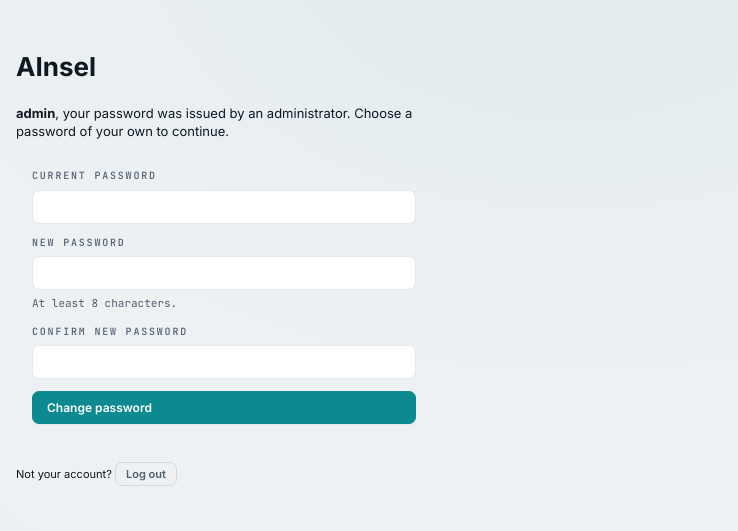
Test: ForcedPasswordChange › keeps the user on the screen when the current password is wrong
This screenshot has width=738, height=531.
Type "wrong" into the password field labelled "Current password".
click(224, 207); type("wrong")  # box [32,190,416,224]
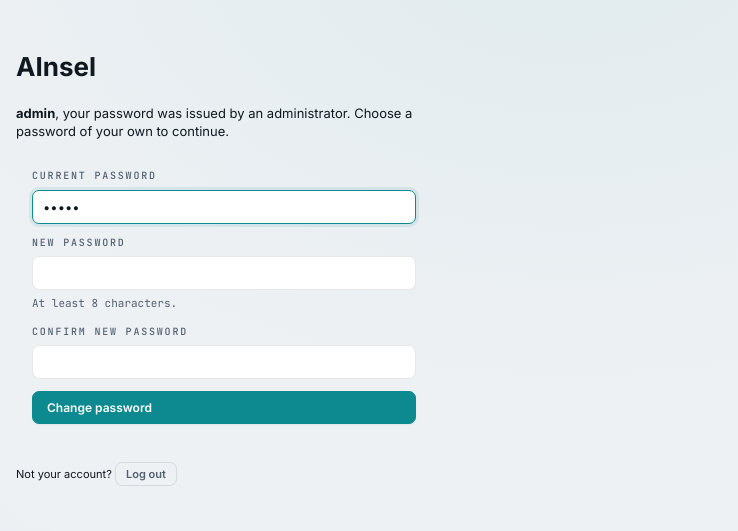
Type "self-chosen-pass" into the password field labelled "New password".
click(224, 273); type("self-chosen-pass")  # box [32,256,416,290]
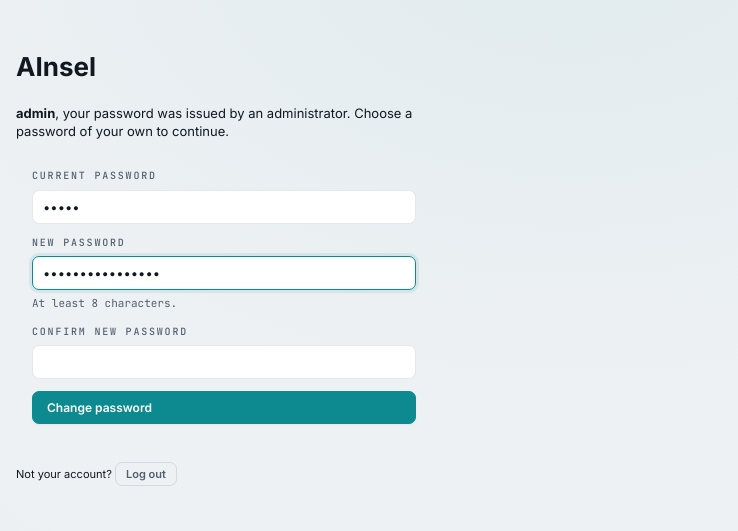
Type "self-chosen-pass" into the password field labelled "Confirm new password".
click(224, 362); type("self-chosen-pass")  # box [32,345,416,379]
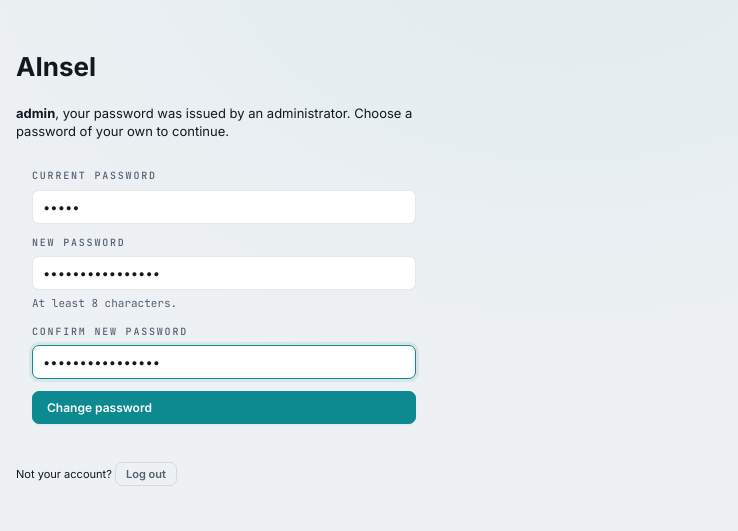
Click the button "Change password".
click(99, 408)  # box [32,391,416,424]
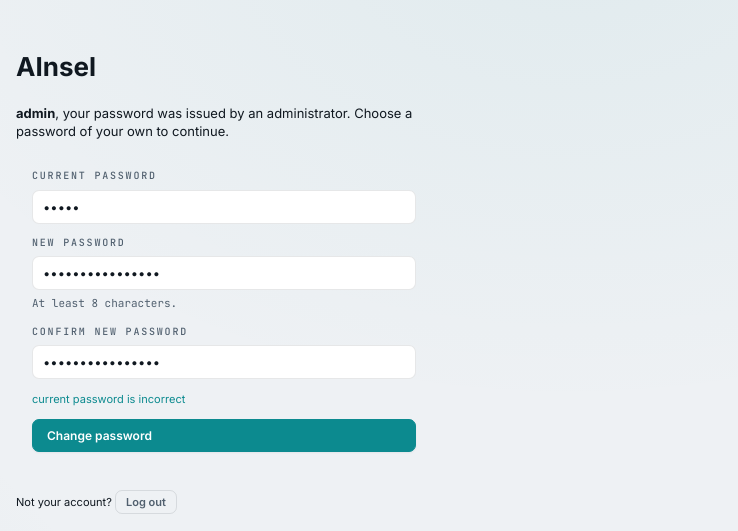
Expected: the message reads "current password is incorrect", [32,392,185,406]
